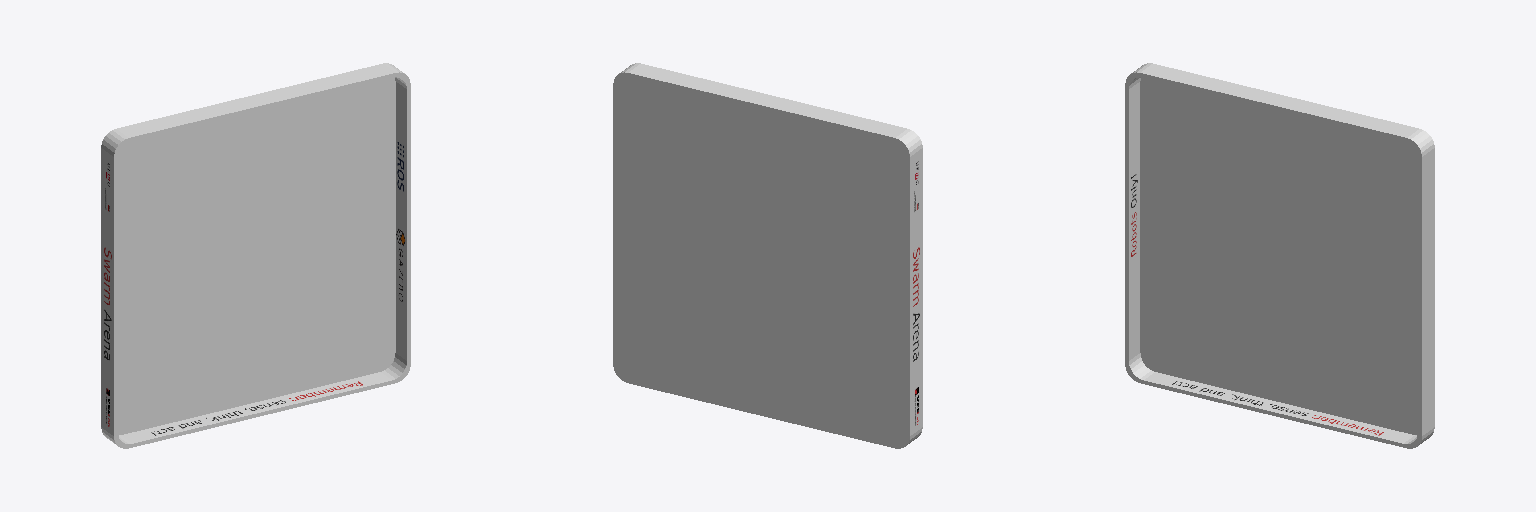
3 views of the same model, side by side, from view 1: azimuth 30°, elevation 25°; view 2: azimuth 150°, elevation 25°; view 3: azimuth 330°, elevation 25° (orthographic).
Parts seen in each view (by area): view 1: arena; view 2: arena; view 3: arena.
Part boxes in pixels (x1,y1,x2,y2): arena: (101, 63, 410, 448); arena: (613, 63, 922, 448); arena: (1125, 63, 1434, 448).
Bounding box in the file's own units: 4 × 4 × 0.3.
Materials: 1 (1 with a texture image).